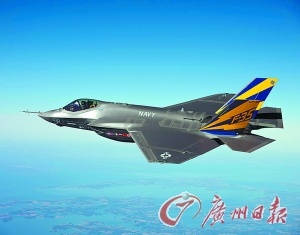airplane: (33, 73, 287, 164)
